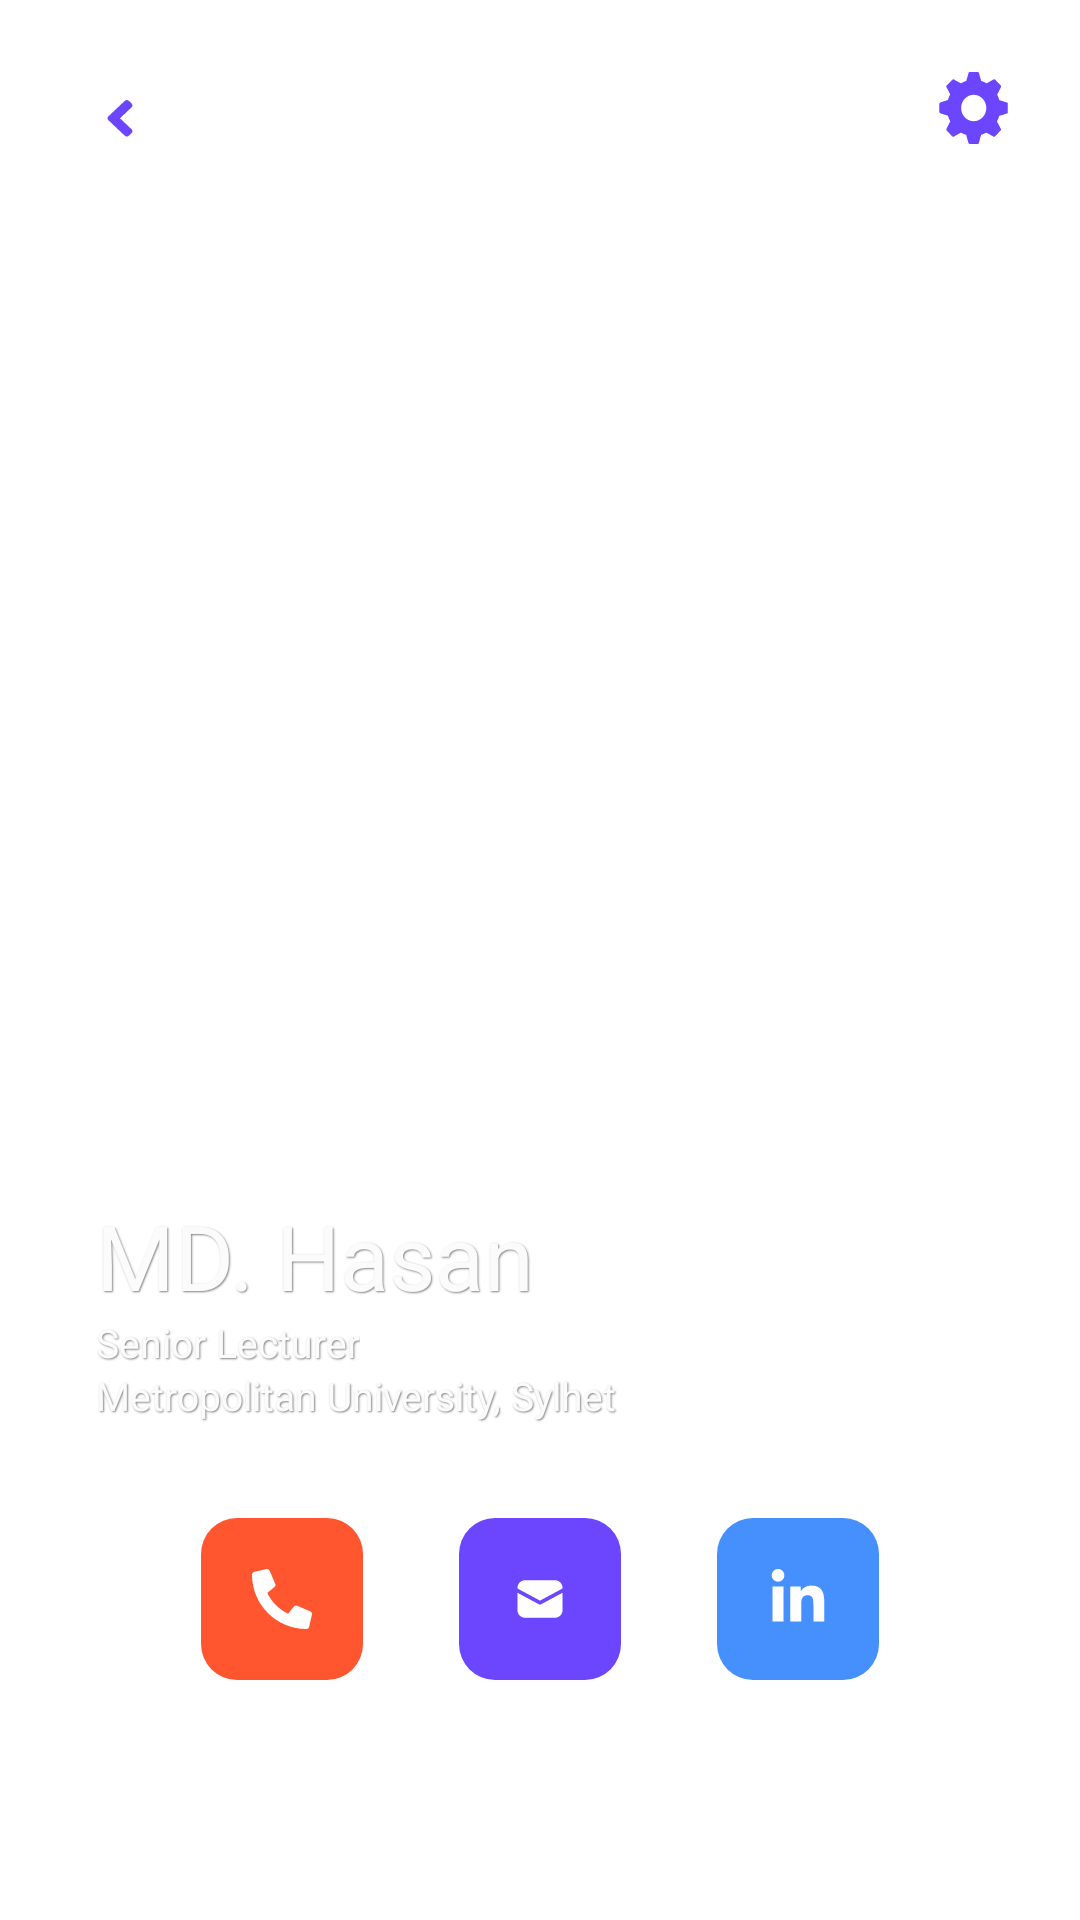

Where icons sit on this 1080 x 1920 app screen, as bbox=[x1, y1, x2, y2]:
email: bbox=[459, 1518, 621, 1680]
profile back: bbox=[107, 100, 133, 137]
setting: bbox=[939, 72, 1008, 144]
